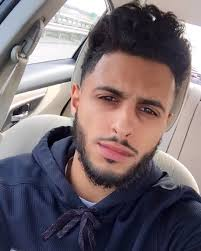middle_eastern_male: (76, 46, 184, 181)
